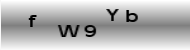9: (83, 24, 96, 38)
W: (57, 24, 80, 38)
Y: (105, 8, 119, 21)
b: (125, 8, 138, 23)
f: (28, 14, 38, 27)
